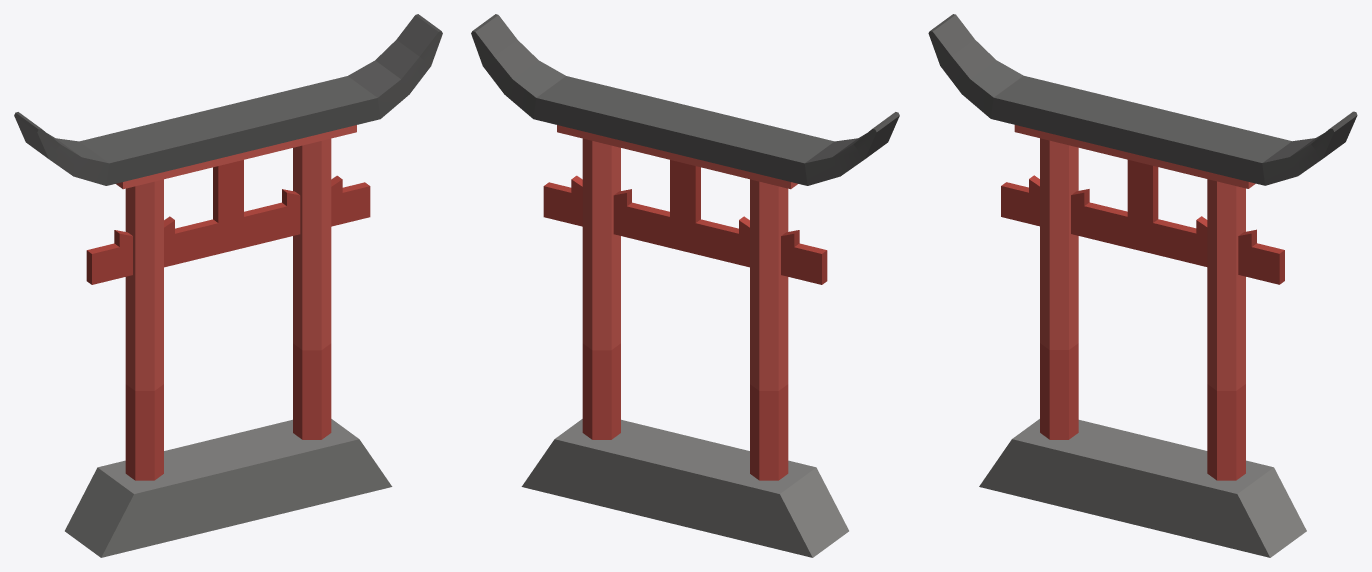
File: torii_2.fbx
3 views of the same model, side by side, from view 1: azimuth 30°, elevation 25°; view 2: azimuth 150°, elevation 25°; view 3: azimuth 330°, elevation 25° (orthographic).
Parts seen in each view (by area): view 1: torii_2; view 2: torii_2; view 3: torii_2.
Boxes of the visible parts, left/top/right/bottom form: torii_2: left=14, top=14, right=442, bottom=557; torii_2: left=471, top=14, right=899, bottom=557; torii_2: left=928, top=14, right=1357, bottom=557.
Bounding box in the file's own units: 386 × 397 × 60.27.
